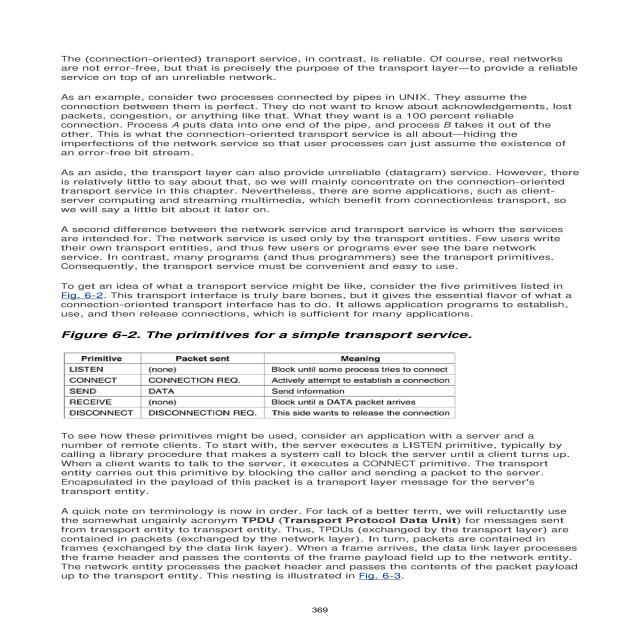diagram: (52, 318, 534, 427)
